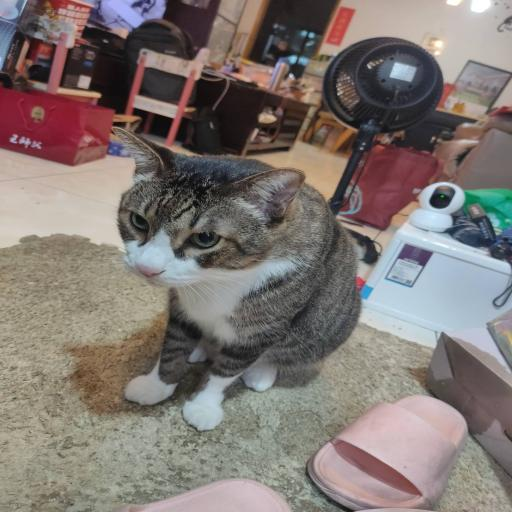cat: (112, 131, 360, 407)
